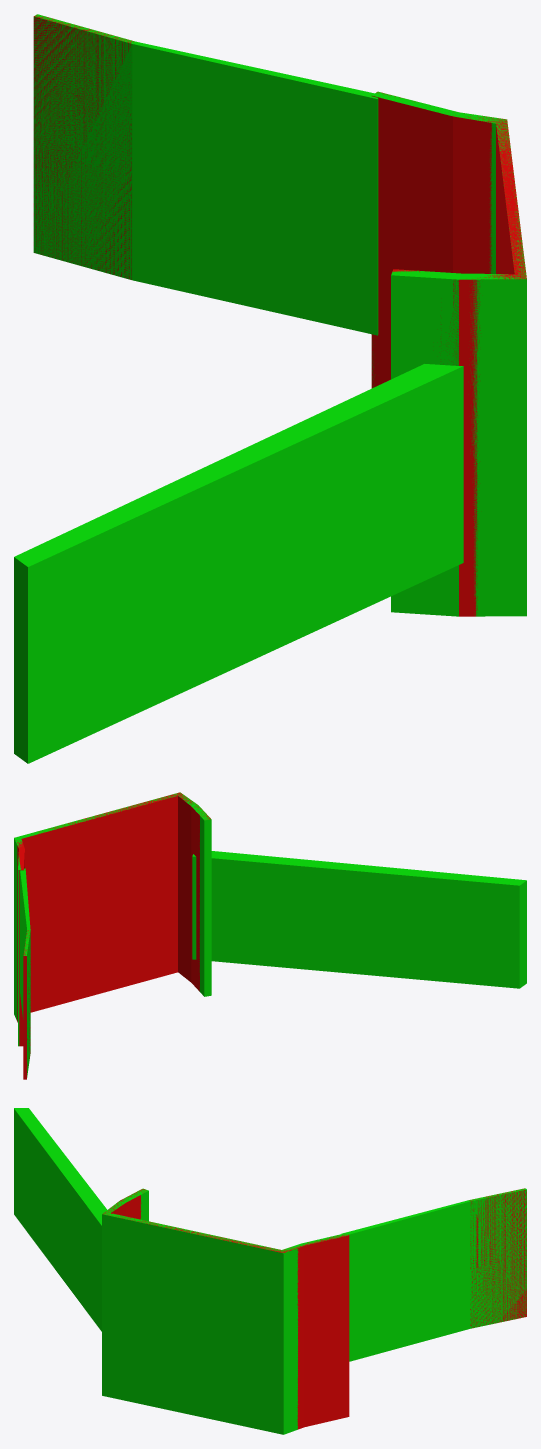
The model's file is InvisibleWall_007.fbx.
The picture shows the model from 3 angles, top to bottom: view 1: azimuth 30°, elevation 25°; view 2: azimuth 150°, elevation 25°; view 3: azimuth 270°, elevation 25°; orthographic projection. The views are drawn at different scales.
Visible parts, largest first — view 1: Designer127, Designer120, InvisibleWall_007_Phys, Designer217; view 2: Designer127, InvisibleWall_007_Phys, Designer217, Designer120; view 3: Designer217, Designer120, InvisibleWall_007_Phys, Designer127.
Boxes of the visible parts, x1,y1,x2,y2 form: Designer127: (14, 364, 463, 763); Designer120: (33, 14, 378, 335); InvisibleWall_007_Phys: (33, 15, 526, 616); Designer217: (371, 91, 526, 616); Designer127: (192, 851, 526, 988); InvisibleWall_007_Phys: (15, 792, 210, 1079); Designer217: (14, 792, 211, 1046); Designer120: (20, 868, 30, 1077); Designer217: (102, 1188, 347, 1434); Designer120: (341, 1188, 526, 1361); InvisibleWall_007_Phys: (103, 1188, 526, 1429); Designer127: (14, 1108, 106, 1331).
Size of the model in its own units: 7226 by 3189 by 8168.
